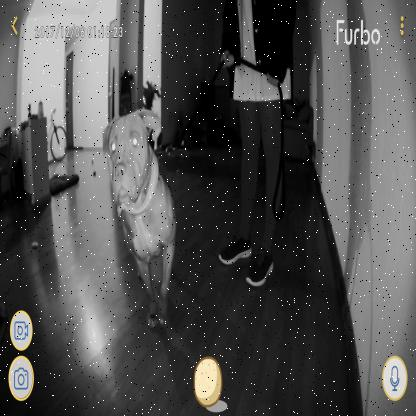dog: (101, 105, 180, 332)
